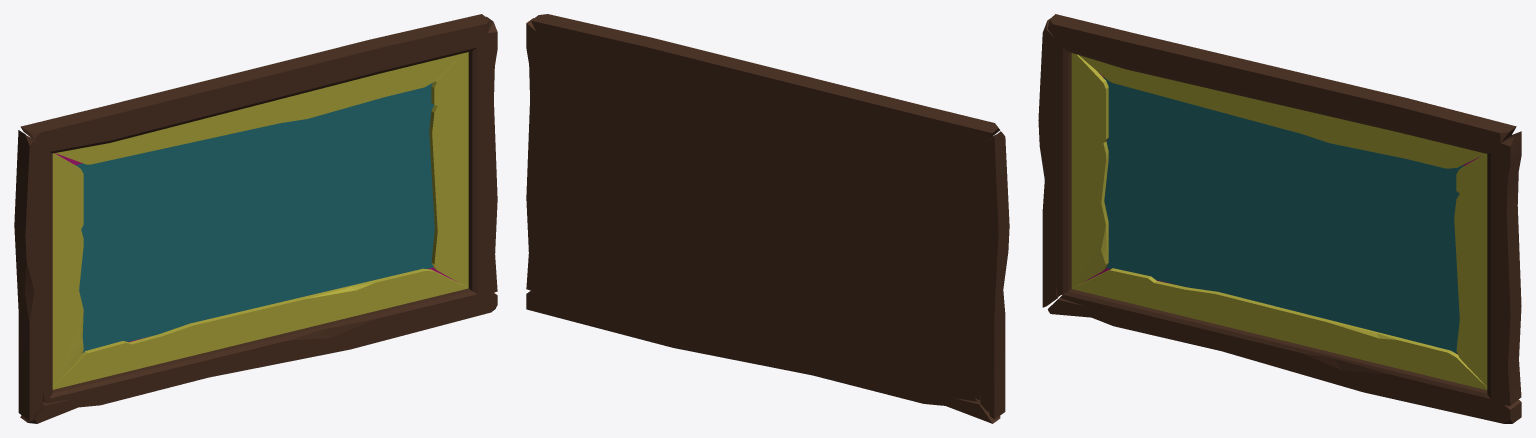
Rendered from picture_frame1.fbx.
3 views of the same model, side by side, from view 1: azimuth 30°, elevation 25°; view 2: azimuth 150°, elevation 25°; view 3: azimuth 330°, elevation 25° (orthographic).
Visible parts, largest first — view 1: Picture_frame_1; view 2: Picture_frame_1; view 3: Picture_frame_1.
Boxes of the visible parts, x1,y1,x2,y2 form: Picture_frame_1: (14, 14, 497, 423); Picture_frame_1: (526, 14, 1009, 423); Picture_frame_1: (1038, 14, 1521, 423).
Size of the model in its own units: 326 by 194 by 13.24.
